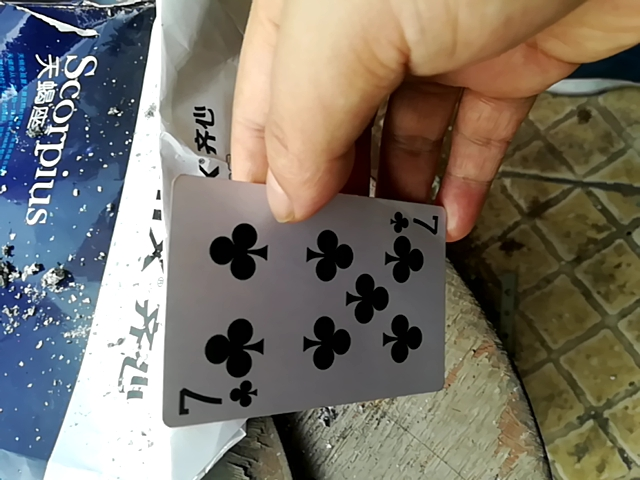mh 7: (144, 182, 456, 471)
